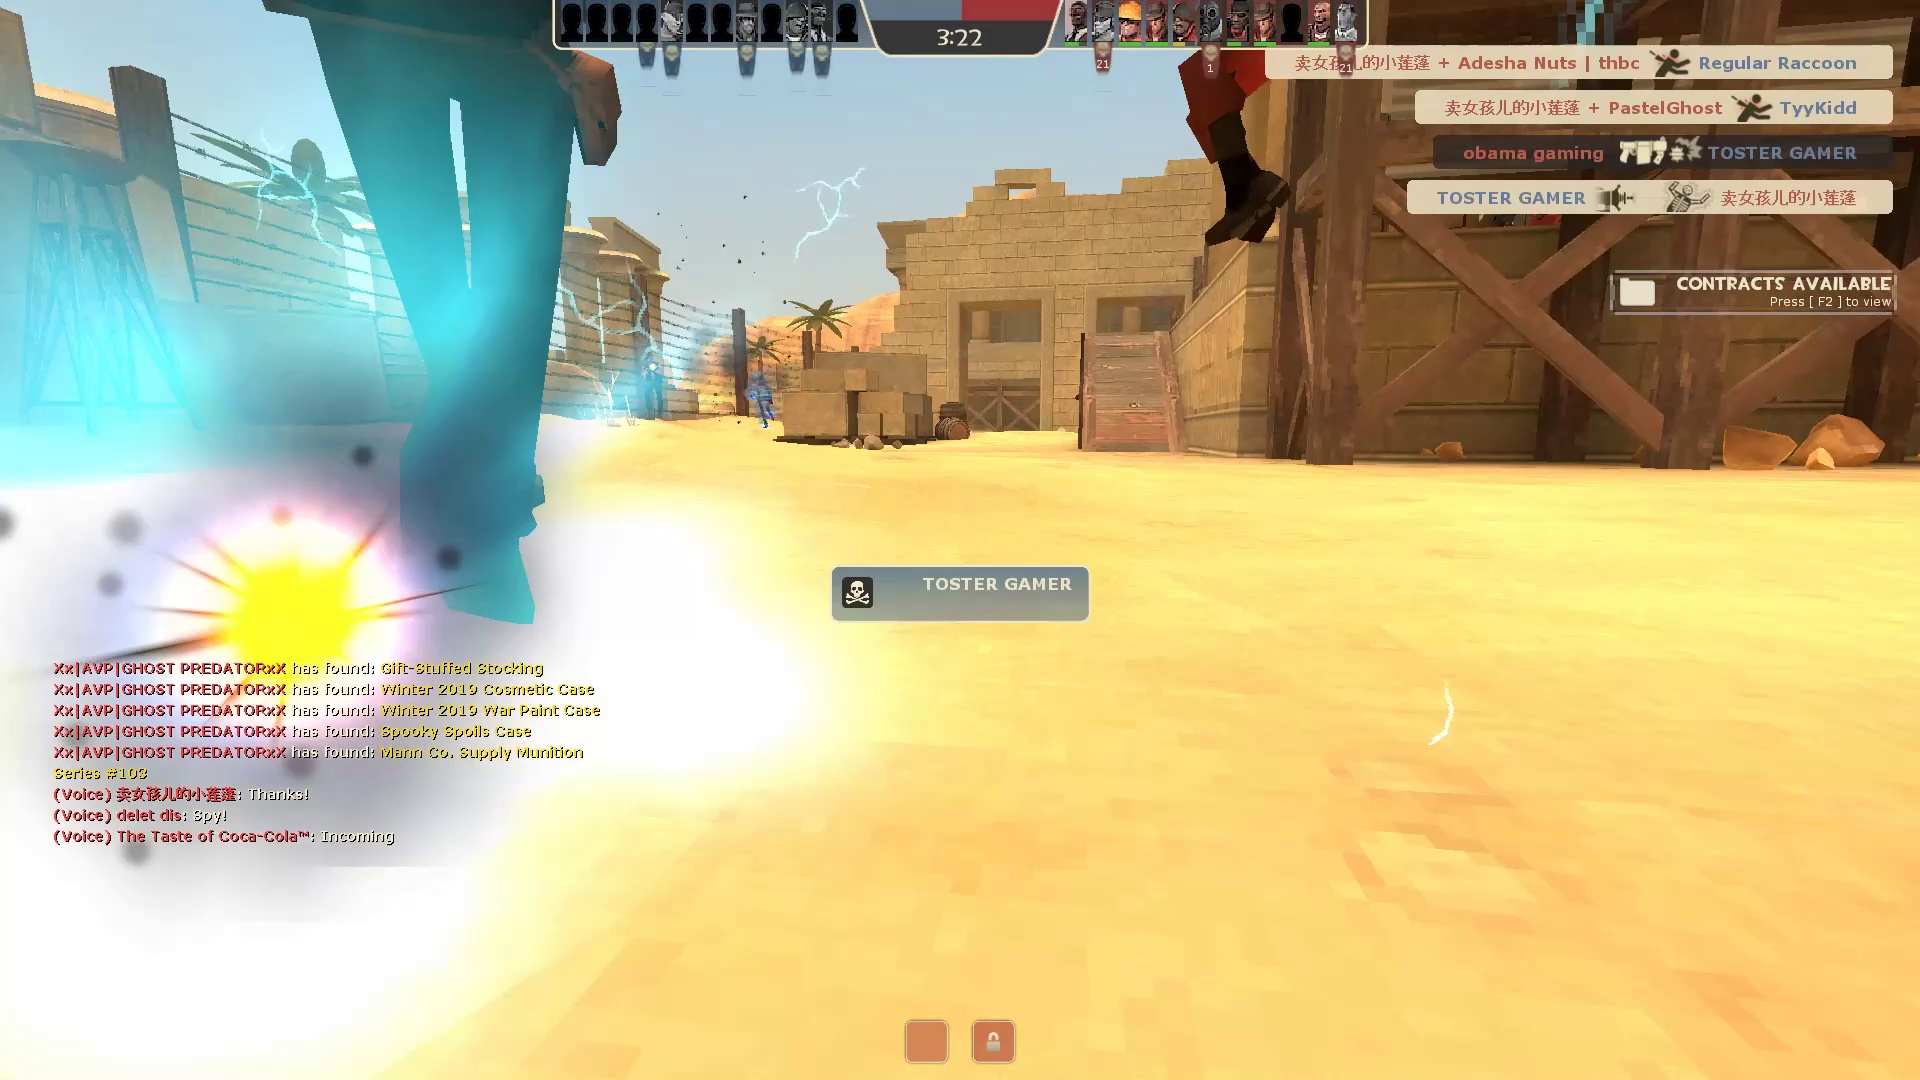red_spy: (746, 364, 785, 438)
